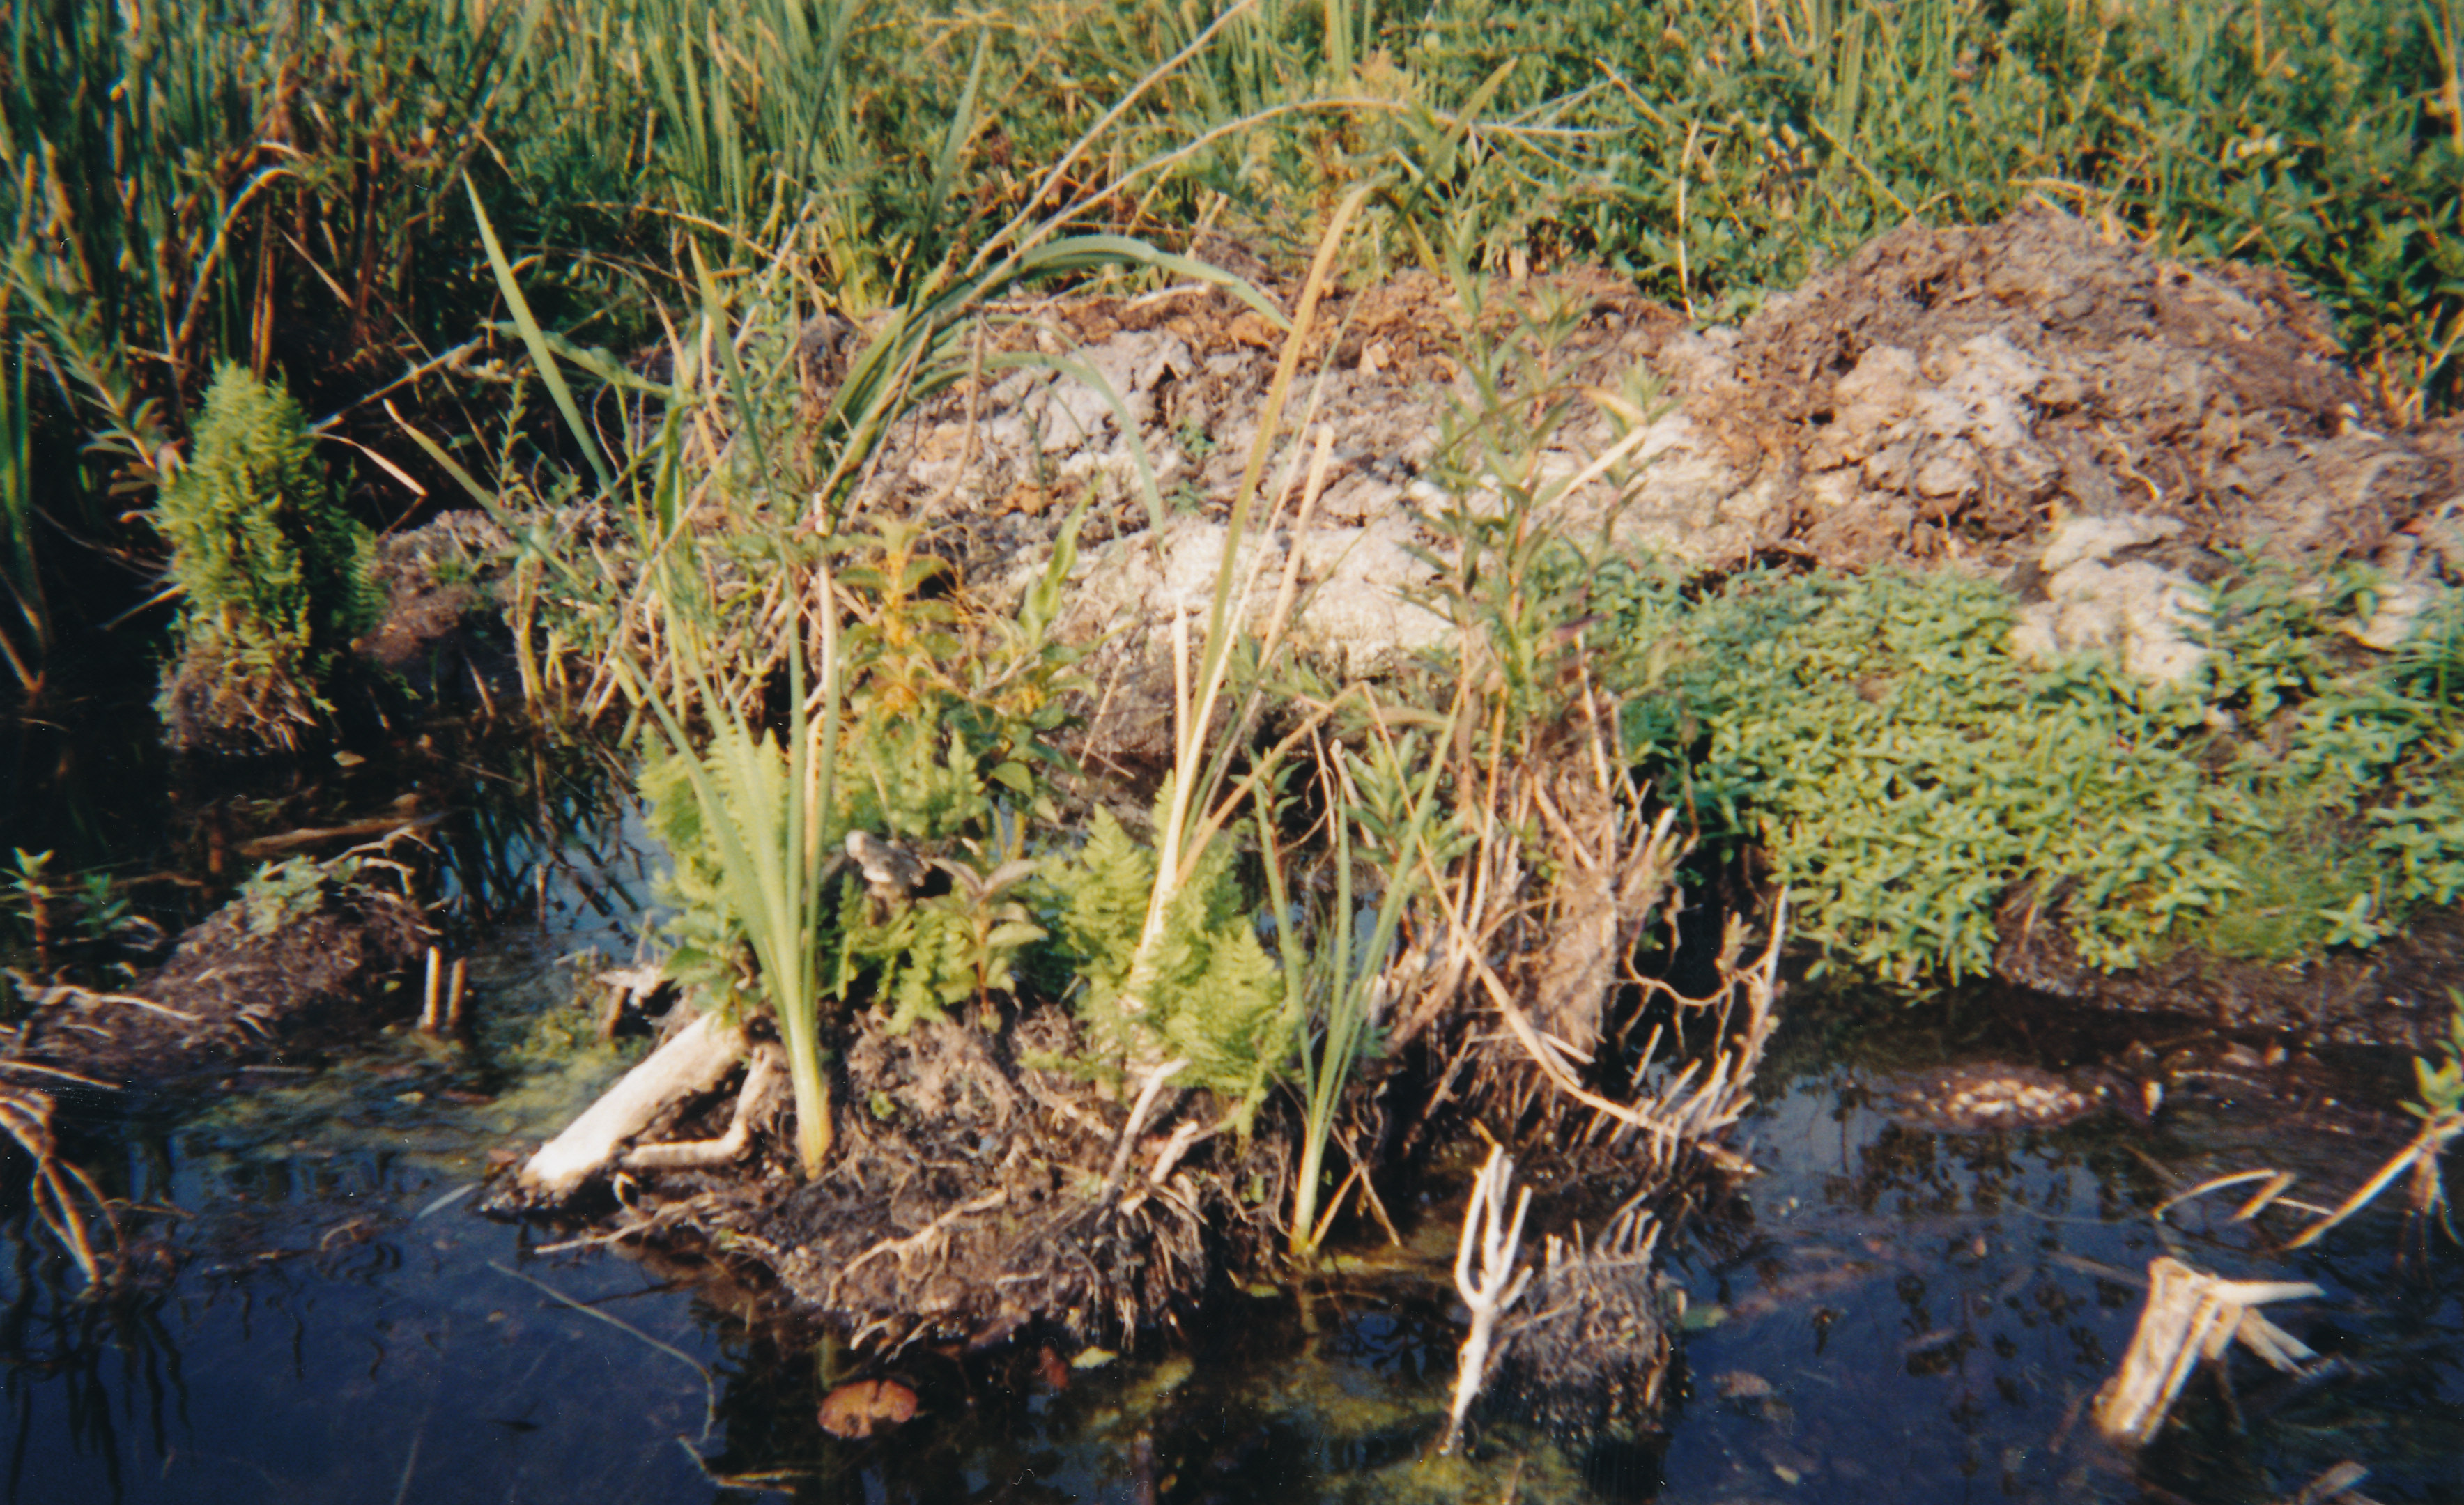vegetation: (19, 2, 2464, 297), (662, 736, 1350, 1248), (1690, 597, 2464, 931), (0, 0, 623, 408), (134, 354, 398, 752), (0, 870, 389, 1120)
water: (0, 613, 736, 1505), (1484, 852, 2464, 1475), (590, 1200, 1588, 1505)
